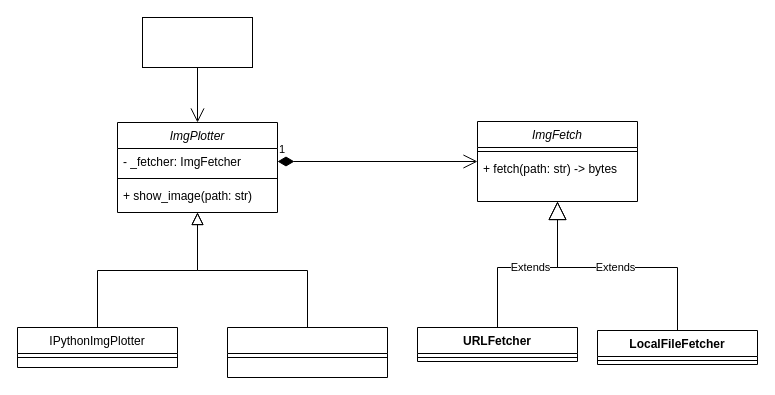
Some shapes in this 775 by 395 pixel diagram are drawn without their labels. Each missing label, with the centre of its shape:
app(): [197,42]
MatplotPlotter: [307,352]
